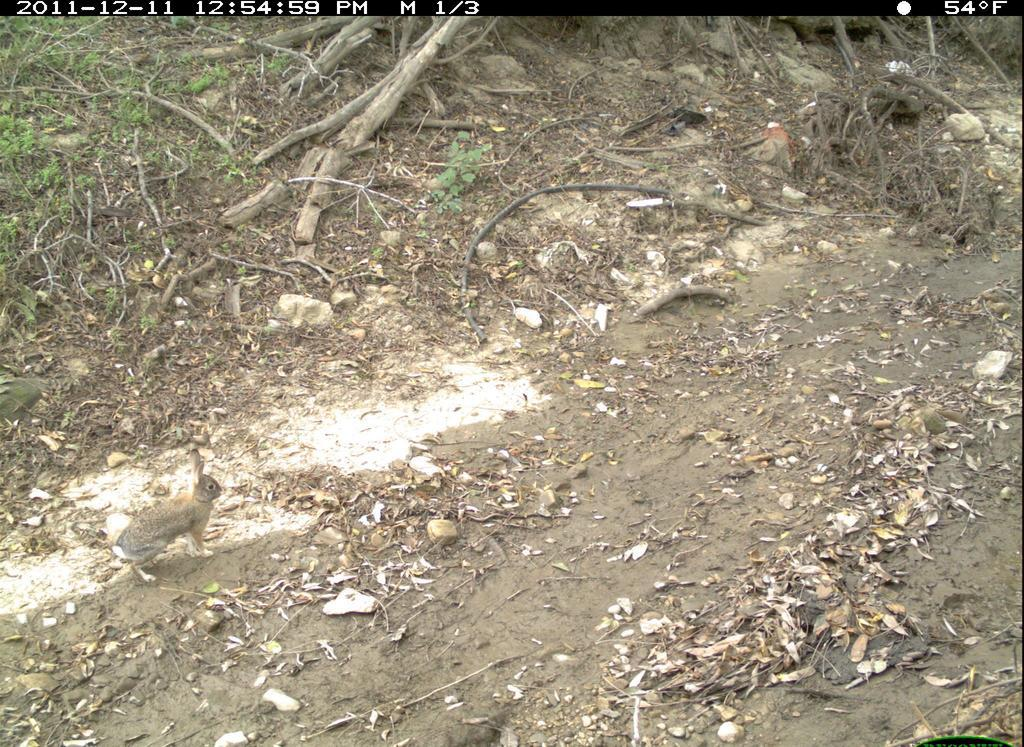rabbit: (105, 441, 226, 584)
